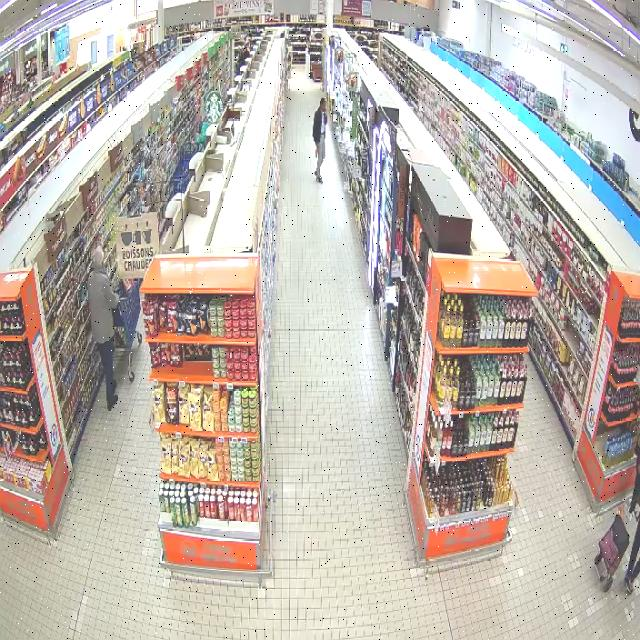article: (314, 147, 320, 158)
hands: (316, 142, 319, 148)
person: (312, 98, 326, 182)
